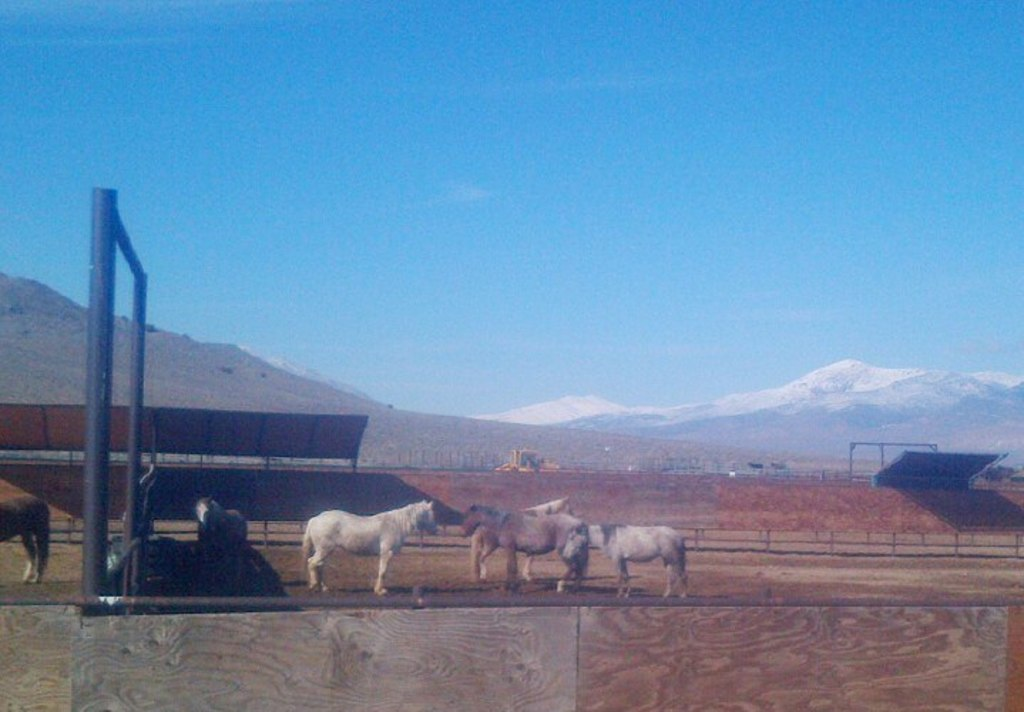horse: (300, 498, 437, 592), (562, 522, 690, 596), (186, 489, 246, 589)
